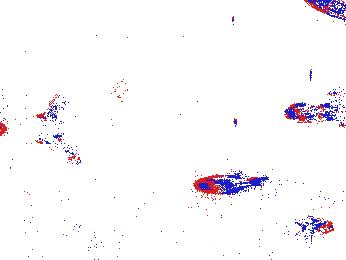red belly glassfish: (194, 172, 261, 196), (297, 218, 337, 237)
redtail glassfish: (37, 100, 83, 166), (282, 90, 346, 126)
